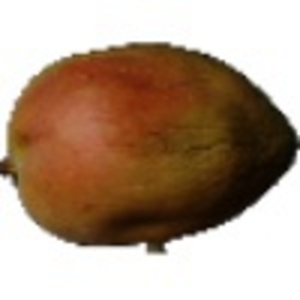mamão: (4, 34, 297, 253)
